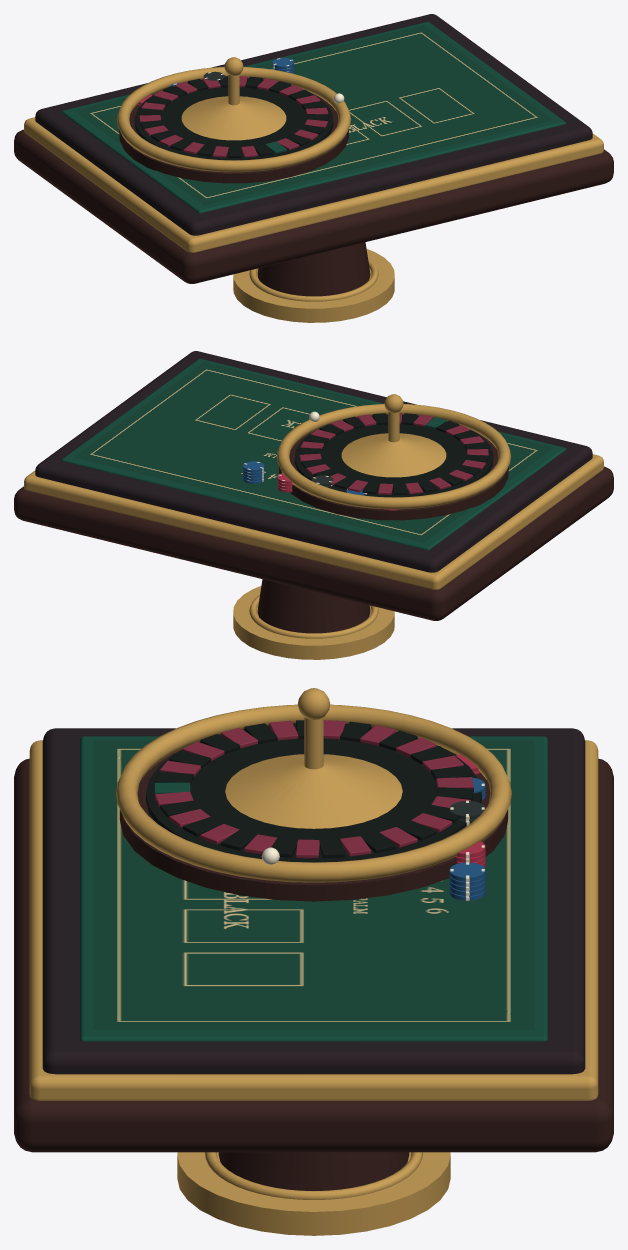
Rendered from roulette.glb.
3 views of the same model, one above another, from view 1: azimuth 30°, elevation 25°; view 2: azimuth 150°, elevation 25°; view 3: azimuth 270°, elevation 25° (orthographic). The views are drawn at different scales.
Visible parts, largest first — view 1: roulette; view 2: roulette; view 3: roulette.
Part boxes in pixels (x1,y1,x2,y2): roulette: (14, 14, 613, 322); roulette: (14, 351, 613, 659); roulette: (14, 688, 613, 1235).
Size of the model in its own units: 3.5 by 1.94 by 2.5.
Materials: 11 (1 with a texture image).
